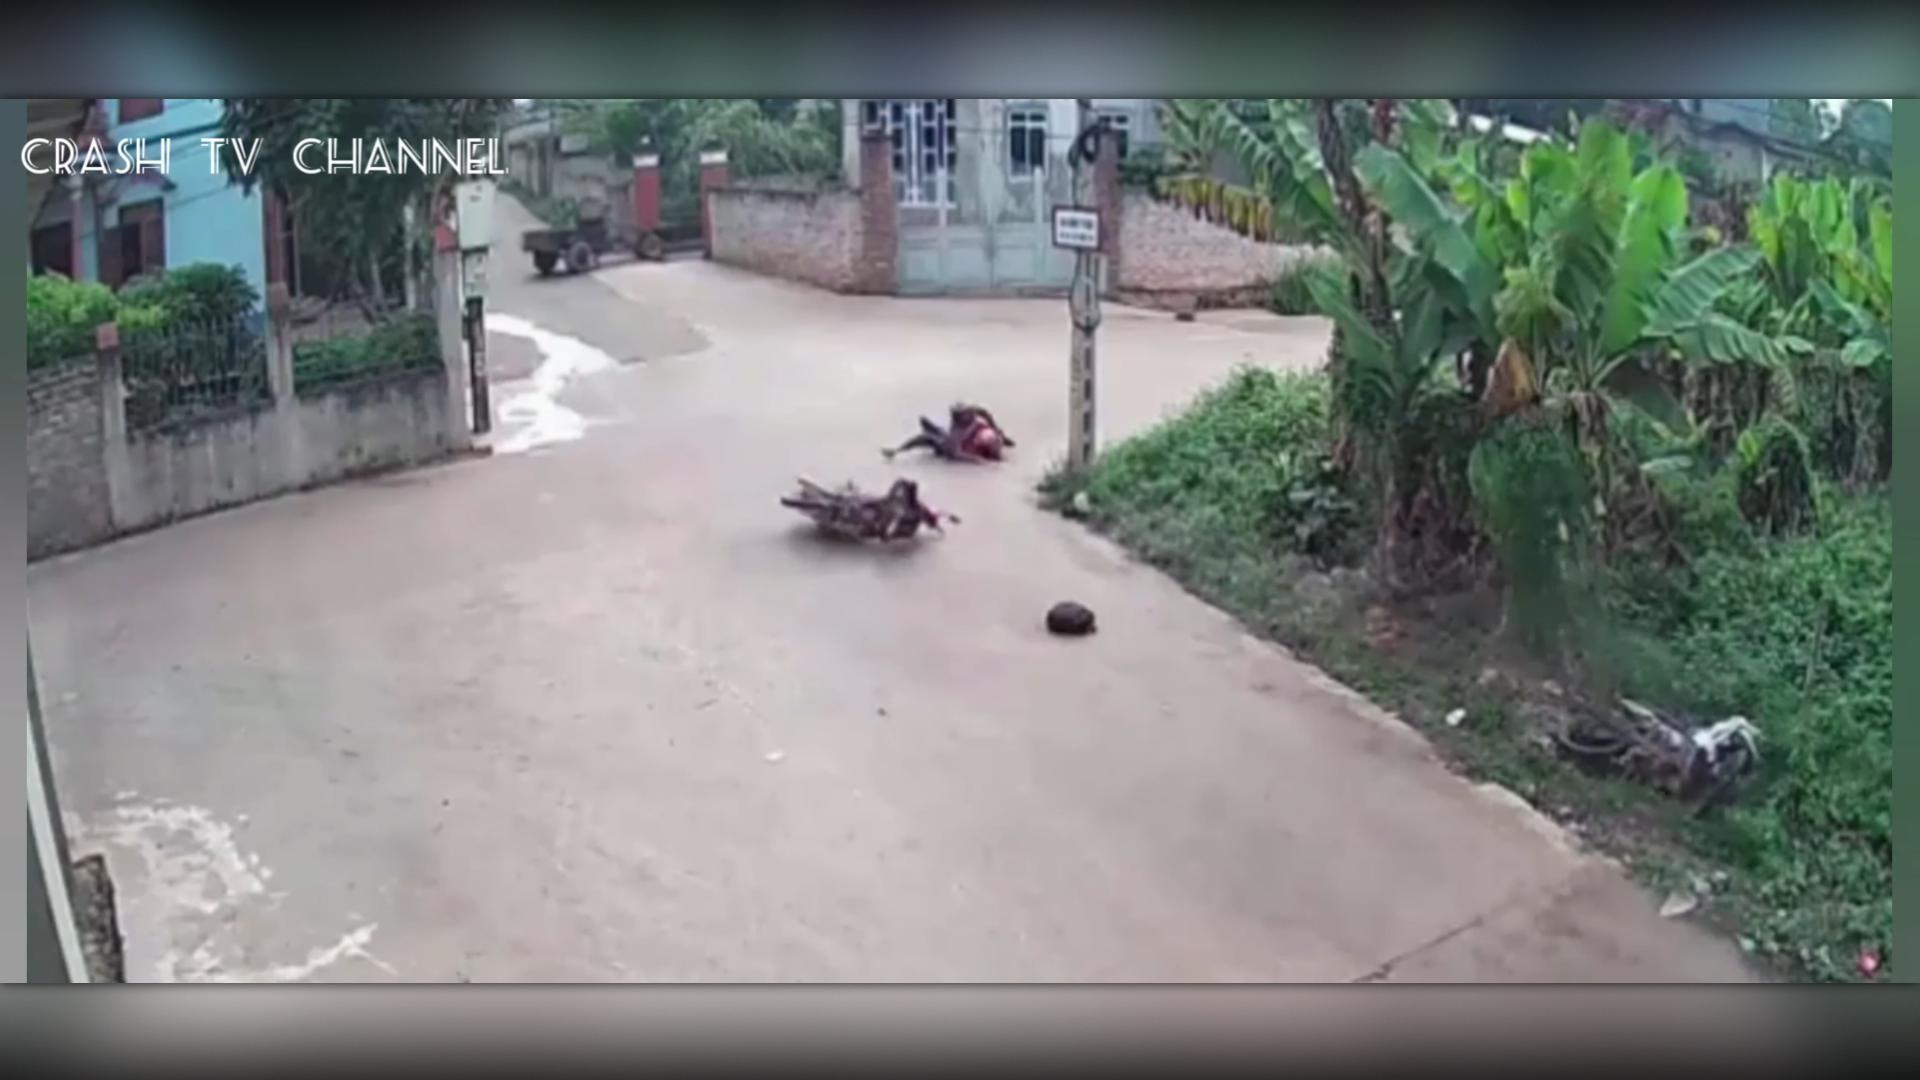accident: (767, 393, 1017, 583), (1532, 667, 1764, 822), (773, 456, 932, 550)
